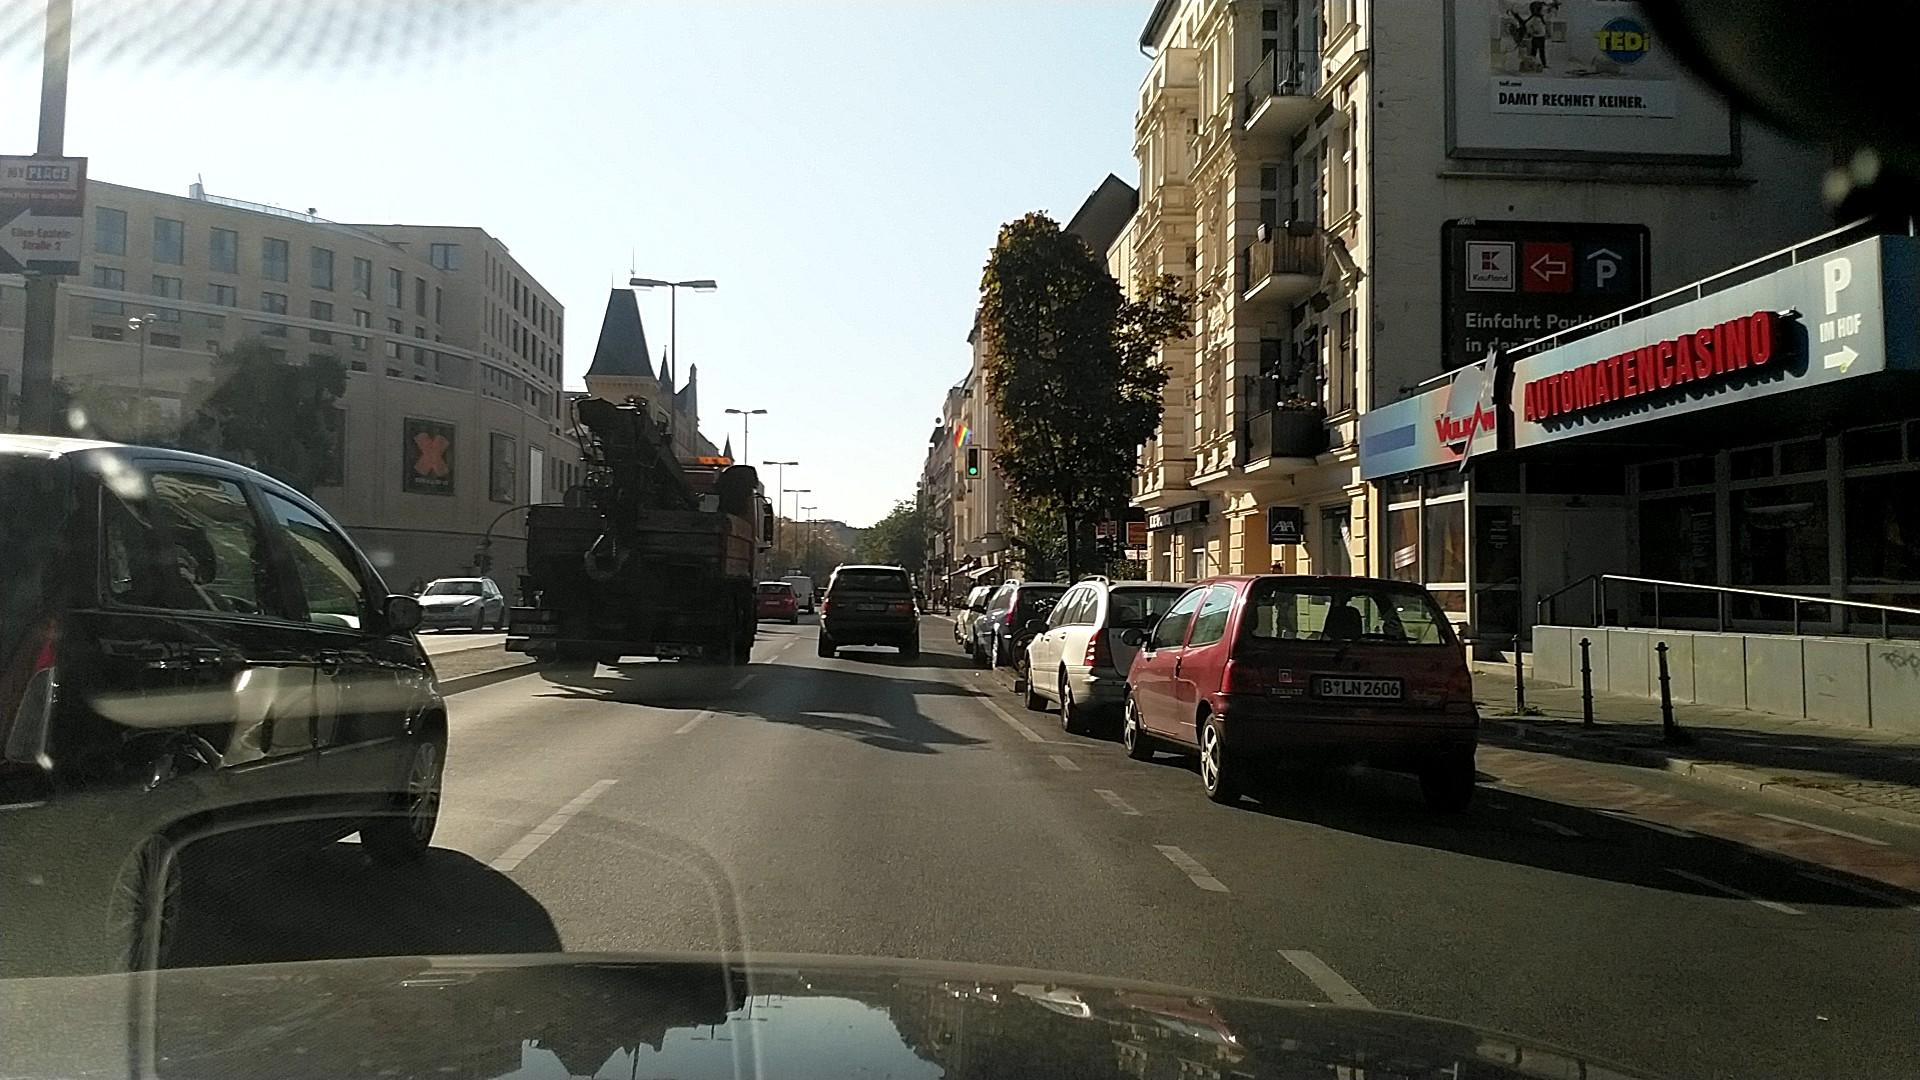Vehicle registration plate: (1313, 675, 1403, 701), (856, 602, 888, 611)
